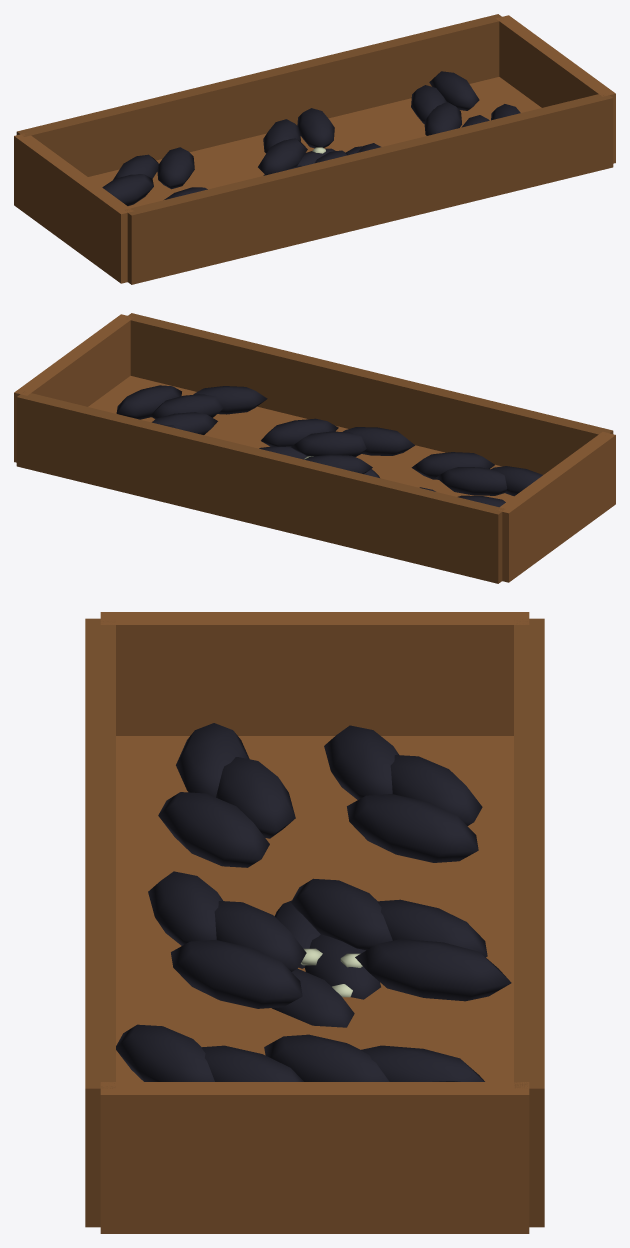
The model's file is Sea_Mussel.fbx.
3 renders of one model, top to bottom at view 1: azimuth 30°, elevation 25°; view 2: azimuth 150°, elevation 25°; view 3: azimuth 270°, elevation 25°, orthographic. The views are drawn at different scales.
Visible parts, largest first — view 1: Sea_Mussel__Stack, Sea_Mussel; view 2: Sea_Mussel__Stack, Sea_Mussel; view 3: Sea_Mussel__Stack, Sea_Mussel.
Part boxes in pixels (box(x1,y1,x2,y2)): Sea_Mussel__Stack: box(14, 14, 615, 284); Sea_Mussel: box(263, 146, 362, 175); Sea_Mussel__Stack: box(14, 313, 615, 583); Sea_Mussel: box(259, 446, 379, 477); Sea_Mussel__Stack: box(85, 612, 544, 1233); Sea_Mussel: box(272, 900, 380, 1027).
Bounding box in the file's own units: 0.2985 × 0.04 × 0.1199.
